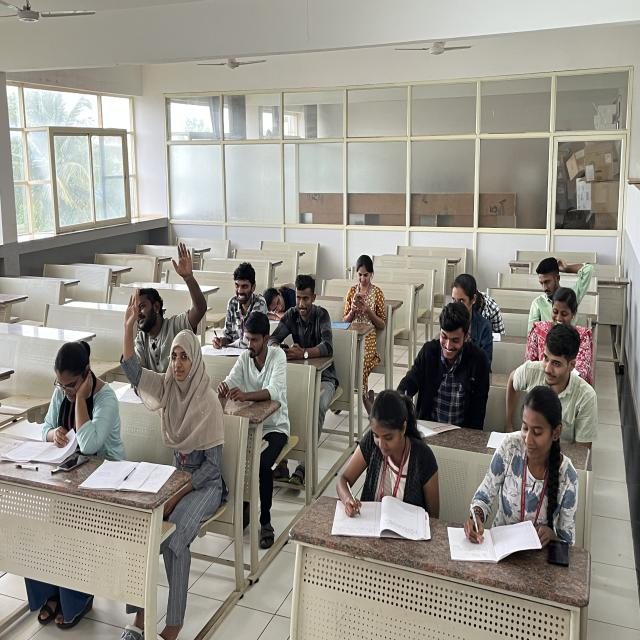Hand Rising: (118, 286, 221, 459), (115, 240, 209, 362)
Sleeping: (265, 279, 301, 321)
Using Phone: (273, 277, 334, 362), (337, 246, 388, 346)
Writing: (463, 388, 562, 559), (333, 393, 440, 533), (23, 340, 124, 459), (210, 264, 267, 358)
